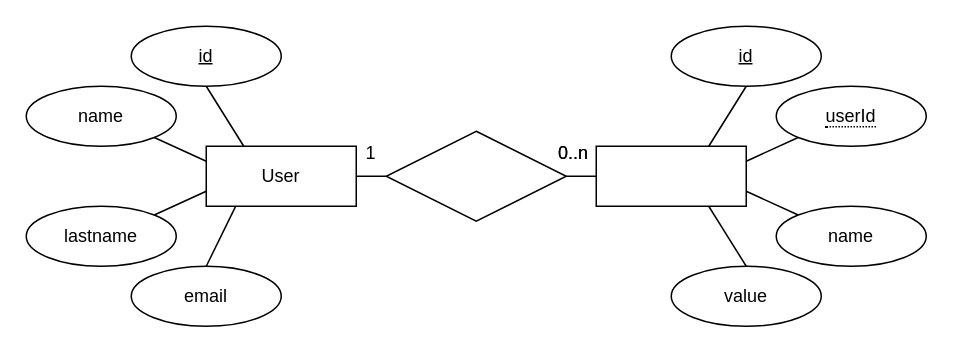
Some shapes in this 953 by 353 pixel diagram are drawn without their labels. The shapes that lost their labels are listed below. From the top down, each one's centre as x and y in pixels, then its label:
the point at 475,175: besitzt
the point at 670,175: User Preference
